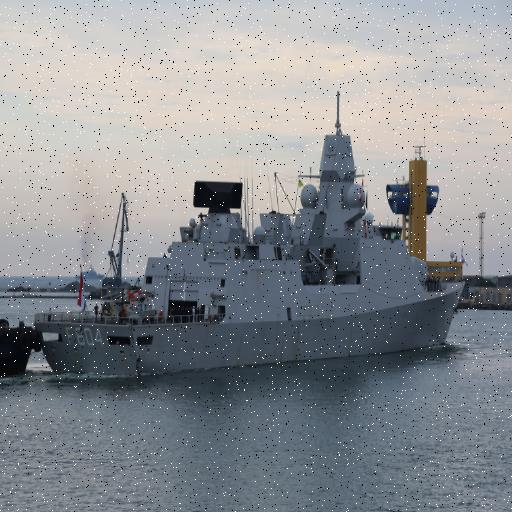Fragata: (35, 72, 468, 390)
